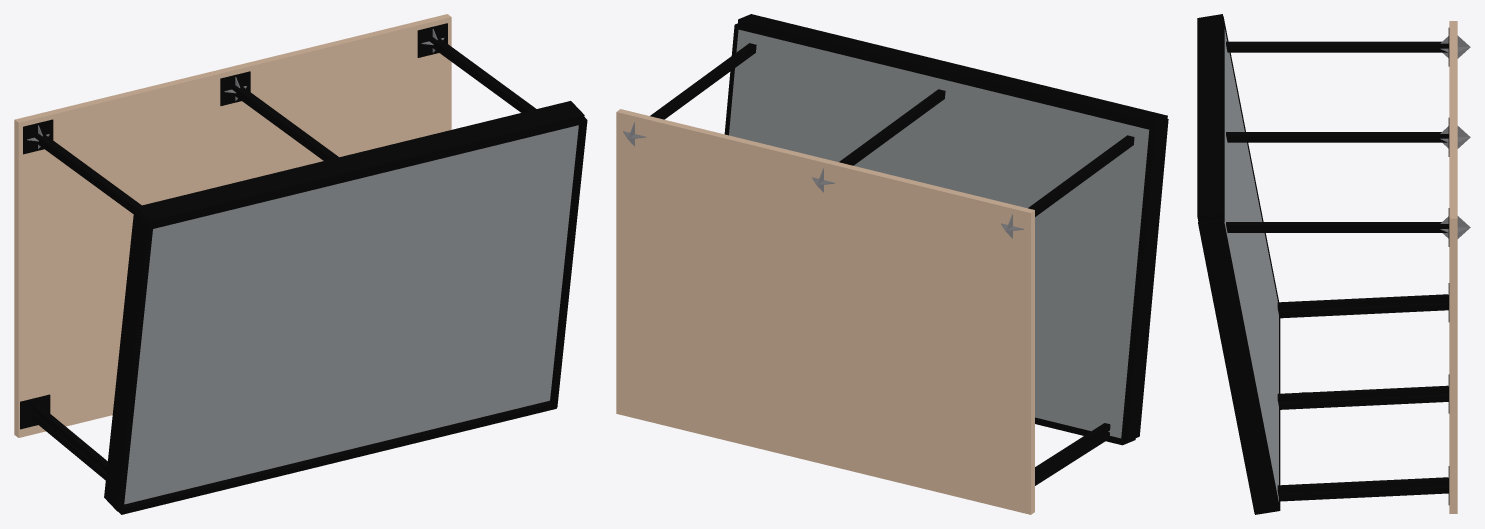
File: Gazebo5x8.gltf
The picture shows the model from 3 angles, left to right: view 1: azimuth 30°, elevation 25°; view 2: azimuth 150°, elevation 25°; view 3: azimuth 270°, elevation 25°; orthographic projection. The views are drawn at different scales.
Bounding box in the file's own units: 5.89 × 4.11 × 3.39.
